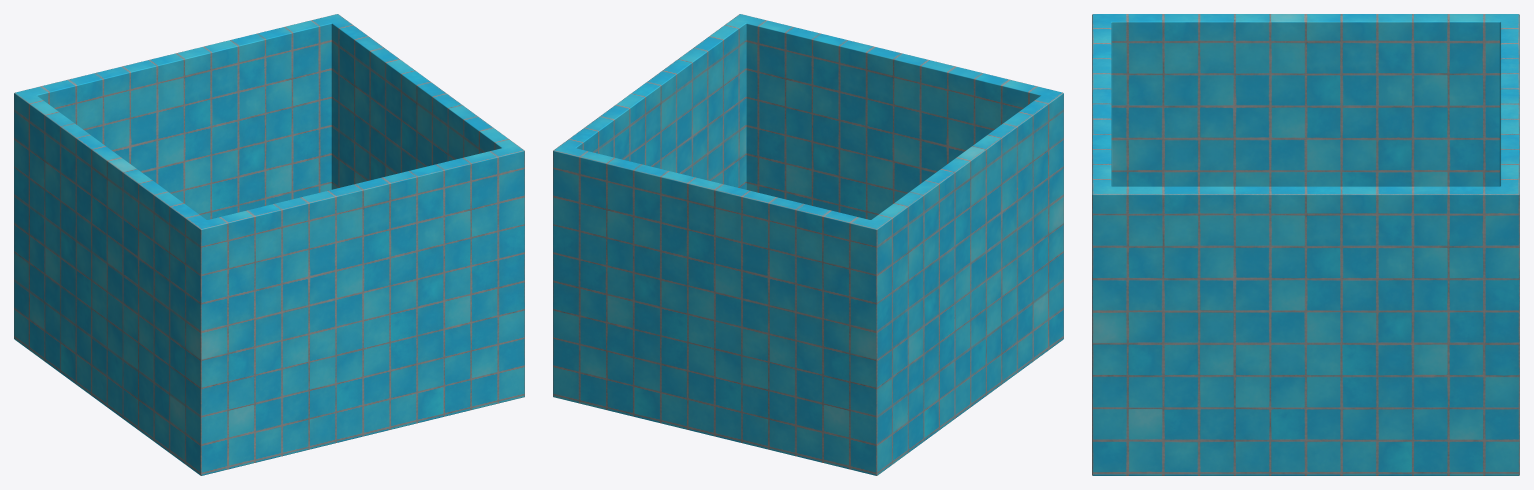
The model's file is PoolMesh.glb.
3 views of the same model, side by side, from view 1: azimuth 30°, elevation 25°; view 2: azimuth 150°, elevation 25°; view 3: azimuth 270°, elevation 25° (orthographic). The views are drawn at different scales.
Parts seen in each view (by area): view 1: PoolMesh; view 2: PoolMesh; view 3: PoolMesh.
Boxes of the visible parts, x1,y1,x2,y2 form: PoolMesh: [14, 14, 524, 475]; PoolMesh: [553, 14, 1063, 475]; PoolMesh: [1092, 14, 1519, 475].
Bounding box in the file's own units: 2.2 × 1.6 × 2.2.
1 material, 1 textured.
